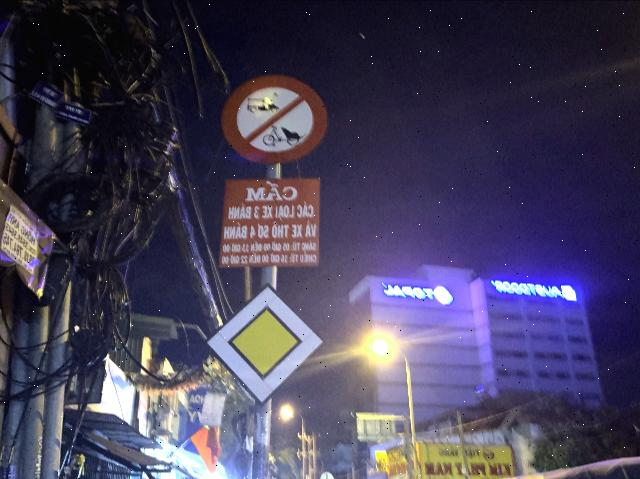bat-dau-duong-uu-tien: (204, 282, 326, 408)
cam-xe-3-banh-xe-tho-so-4-banh: (220, 72, 330, 164)
